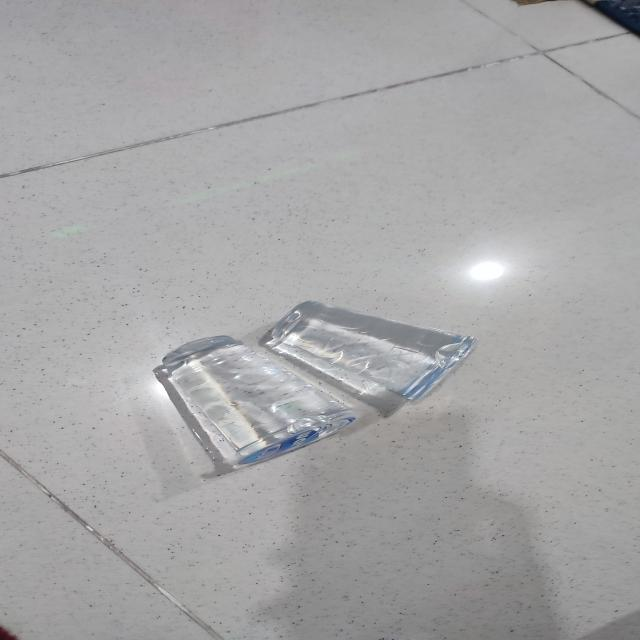air gelas: (147, 324, 345, 478), (262, 296, 485, 416)
